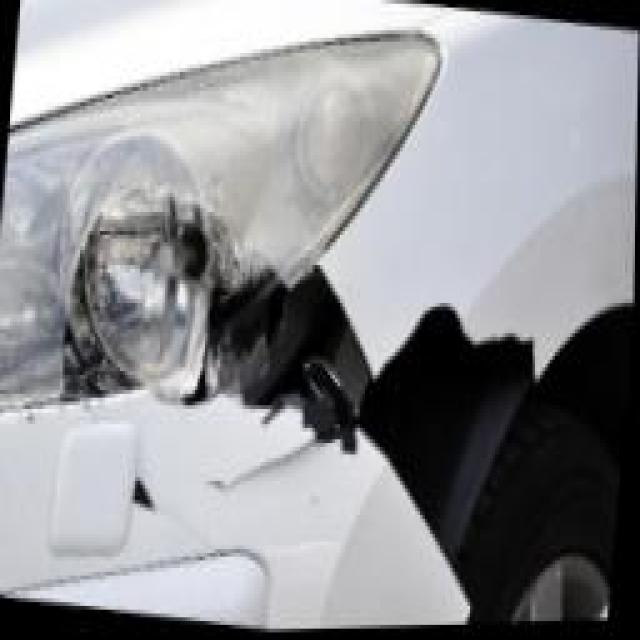Bumper: (0, 295, 508, 638)
Fender: (332, 242, 570, 415)
Light: (0, 15, 357, 430)
